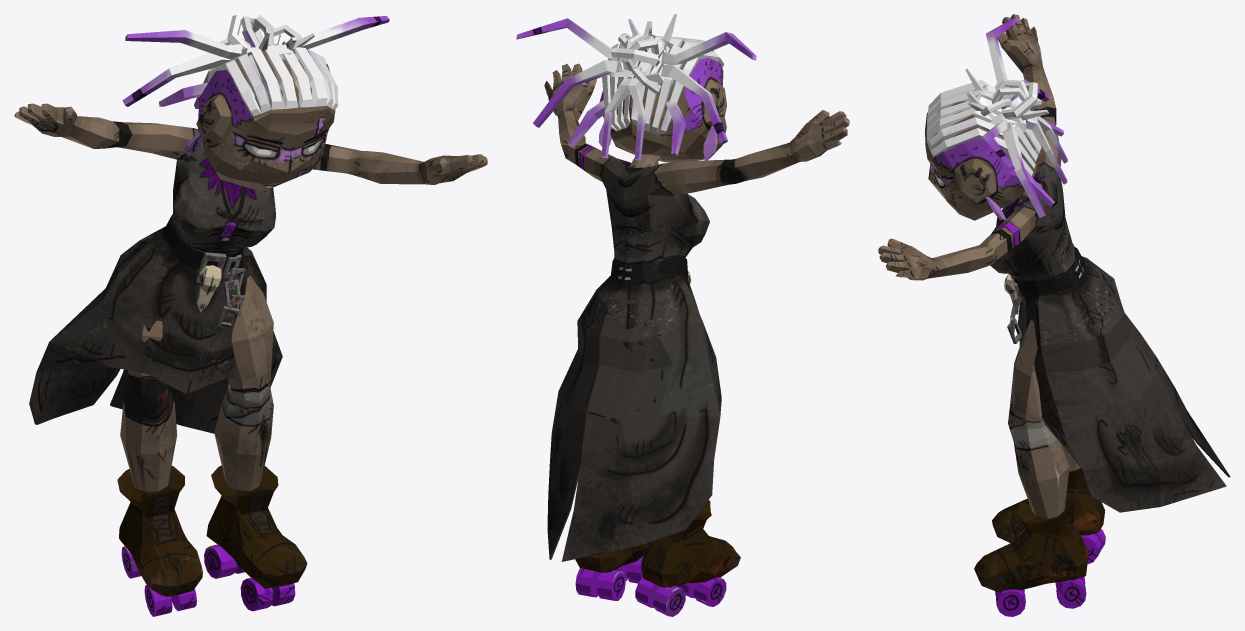
The model's file is bruja_000166.obj.
3 views of the same model, side by side, from view 1: azimuth 30°, elevation 25°; view 2: azimuth 150°, elevation 25°; view 3: azimuth 270°, elevation 25° (orthographic). The views are drawn at different scales.
Parts seen in each view (by area): view 1: Bruja_Plane.001; view 2: Bruja_Plane.001; view 3: Bruja_Plane.001.
Part boxes in pixels (x1,y1,x2,y2): Bruja_Plane.001: (14, 14, 487, 616); Bruja_Plane.001: (516, 14, 849, 616); Bruja_Plane.001: (878, 14, 1230, 616).
Size of the model in its own units: 11.24 by 16.45 by 9.79.
